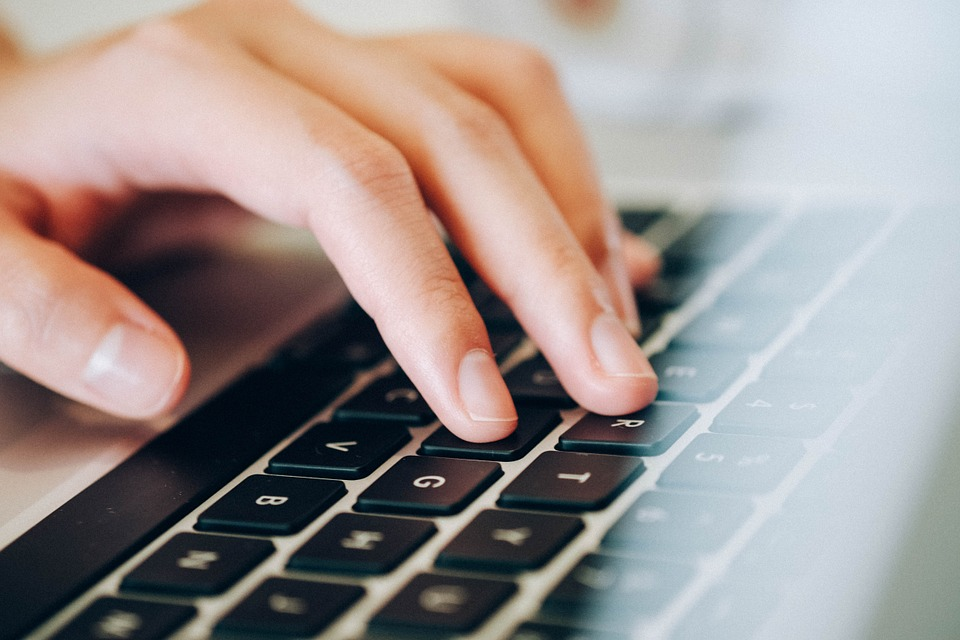finger: (173, 49, 513, 444), (309, 41, 658, 412), (397, 33, 645, 329)
